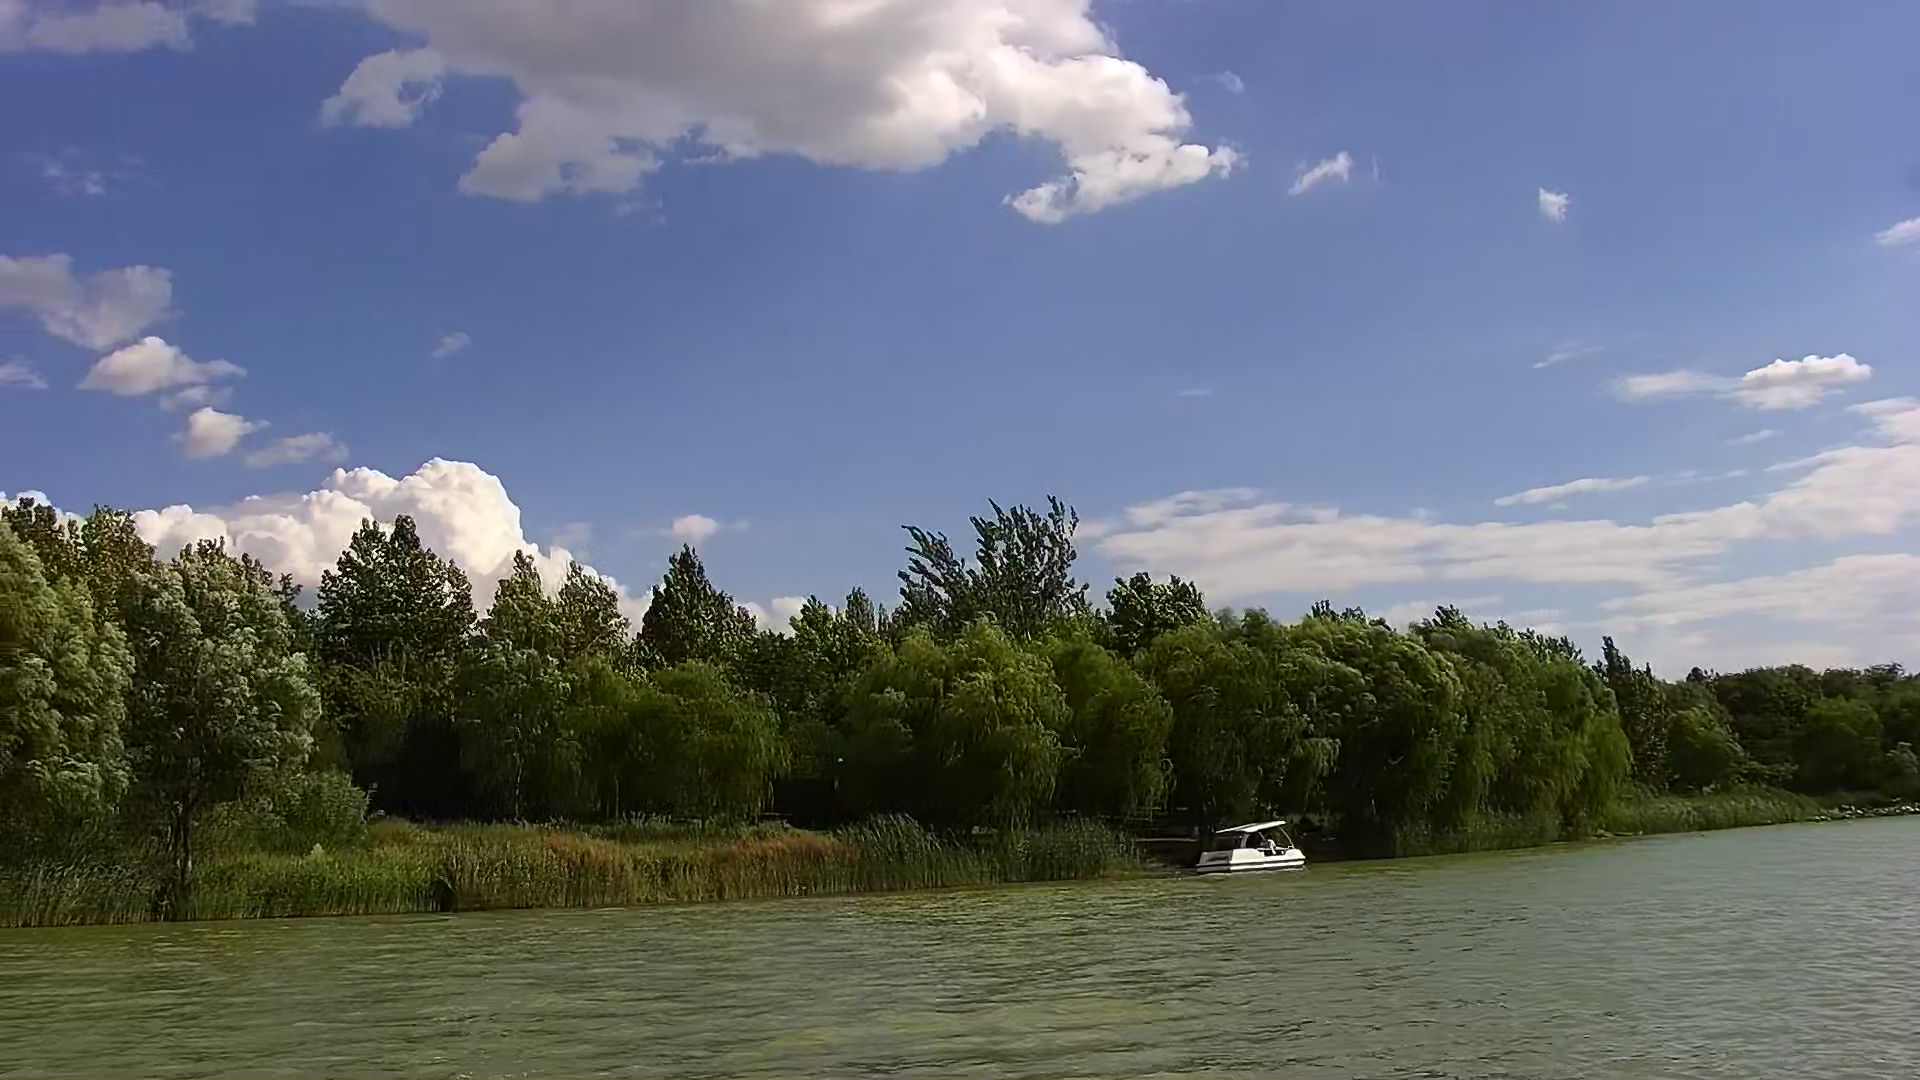boat: (1199, 814, 1302, 876)
